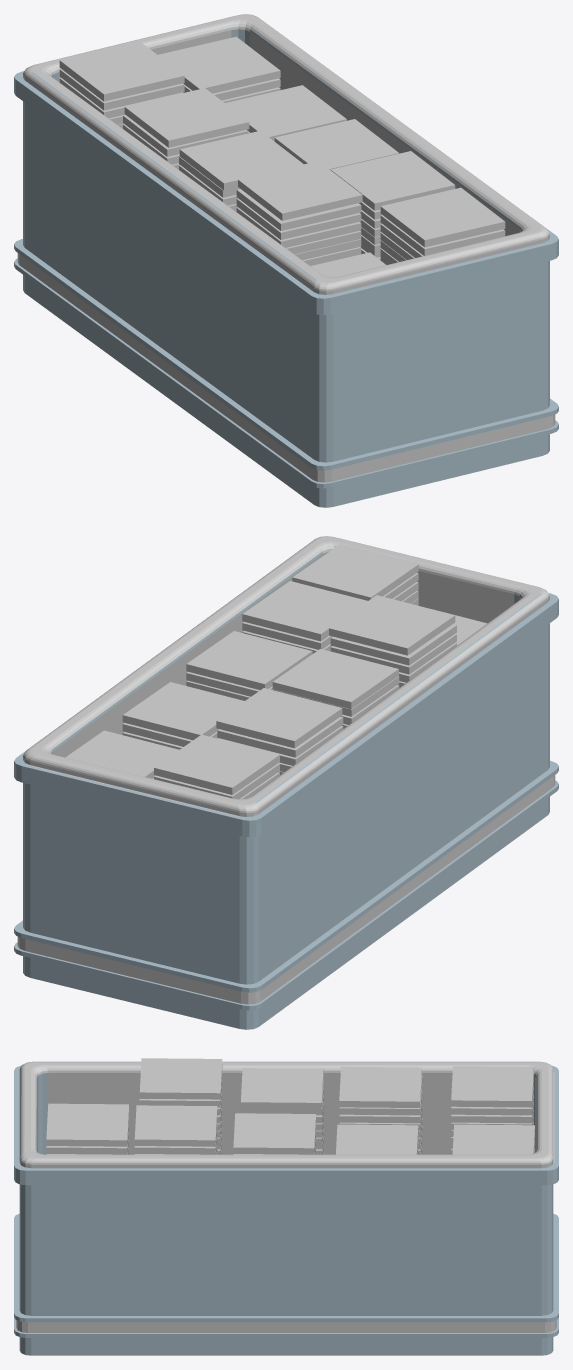
Rendered from Vriesbak3.fbx.
3 renders of one model, top to bottom at view 1: azimuth 30°, elevation 25°; view 2: azimuth 150°, elevation 25°; view 3: azimuth 270°, elevation 25°, orthographic. The views are drawn at different scales.
Parts seen in each view (by area): view 1: Cube, Cube_053, Cube_122, Cube_002, Cube_006, Cube_173, Cube_155, Cube_005, Cube_039, Cube_157, Cube_088, Cube_052 (+7 smaller); view 2: Cube, Cube_006, Cube_002, Cube_005, Cube_053, Cube_157, Cube_155, Cube_122, Cube_039, Cube_173, Cube_088, Cube_055 (+6 smaller); view 3: Cube, Cube_006, Cube_155, Cube_053, Cube_005, Cube_157, Cube_122, Cube_002, Cube_039, Cube_173, Cube_154, Cube_123 (+6 smaller).
Part boxes in pixels (x1,y1,x2,y2): Cube: (14,14,558,507); Cube_053: (59,42,184,101); Cube_122: (380,187,505,247); Cube_002: (124,88,249,147); Cube_006: (238,161,362,220); Cube_173: (158,36,280,93); Cube_155: (331,151,455,210); Cube_005: (179,131,303,190); Cube_039: (225,85,346,141); Cube_157: (274,119,399,169); Cube_088: (236,189,361,230); Cube_052: (59,69,184,110); Cube: (14,536,558,1029); Cube_006: (329,595,455,655); Cube_002: (216,688,342,748); Cube_005: (272,649,398,709); Cube_053: (154,734,279,794); Cube_157: (186,631,312,690); Cube_155: (242,581,367,641); Cube_122: (292,544,418,600); Cube_039: (122,682,244,740); Cube_173: (65,730,179,778); Cube_088: (330,624,456,665); Cube_055: (217,716,343,757); Cube: (14,1061,558,1355); Cube_006: (139,1058,222,1099); Cube_155: (134,1105,217,1146); Cube_053: (451,1066,533,1107); Cube_005: (240,1068,323,1109); Cube_157: (233,1113,315,1154); Cube_122: (46,1105,128,1146); Cube_002: (339,1066,421,1107); Cube_039: (336,1124,418,1154); Cube_173: (452,1124,534,1154); Cube_154: (134,1117,217,1154); Cube_123: (46,1119,128,1154).
Bounding box in the file's own units: 2.1 × 1.95 × 4.58.
